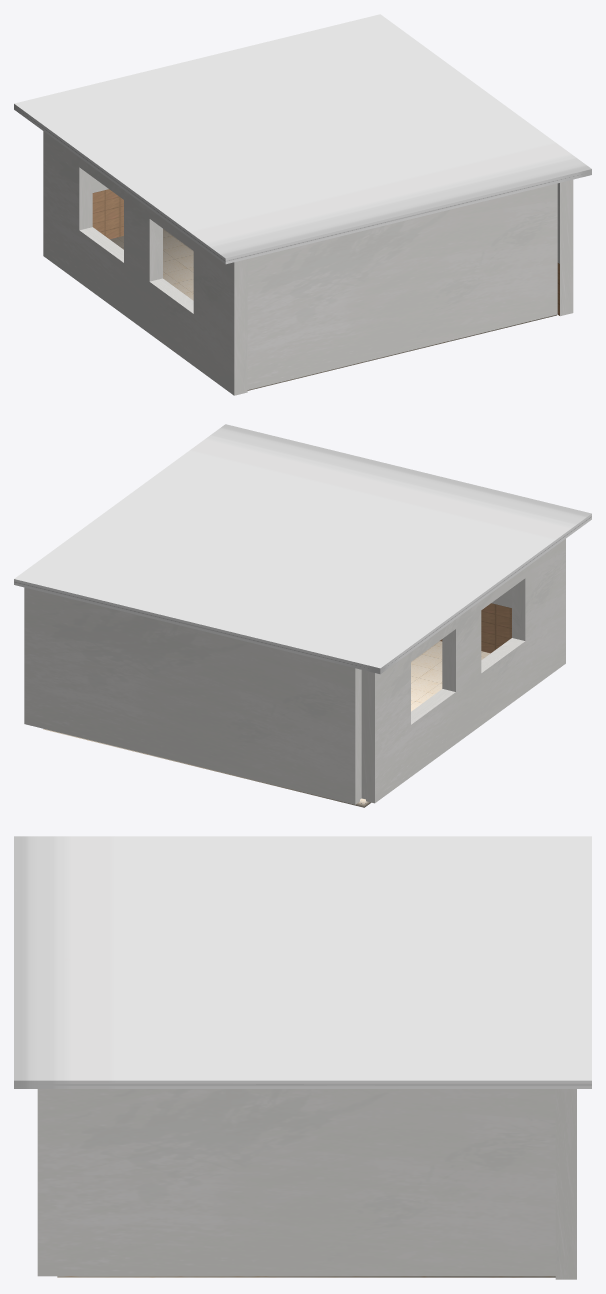
Rendered from walls.fbx.
The picture shows the model from 3 angles, top to bottom: view 1: azimuth 30°, elevation 25°; view 2: azimuth 150°, elevation 25°; view 3: azimuth 270°, elevation 25°; orthographic projection. The views are drawn at different scales.
Visible parts, largest first — view 1: techa, pared.002, pared.001, pared.004, suelo, pared; view 2: techa, pared, pared.001, suelo, pared.002; view 3: techa, pared.004, pared, suelo.
Part boxes in pixels (x1,y1,x2,y2): techa: (14, 14, 591, 264); pared.002: (247, 183, 557, 389); pared.001: (43, 131, 247, 395); pared.004: (557, 179, 573, 316); suelo: (110, 229, 556, 390); pared: (92, 177, 123, 239); techa: (14, 424, 591, 674); pared: (24, 587, 361, 804); pared.001: (361, 539, 565, 803); suelo: (43, 641, 490, 807); pared.002: (440, 588, 511, 653); techa: (14, 836, 591, 1088); pared.004: (37, 1089, 555, 1276); pared: (555, 1089, 576, 1279); suelo: (57, 1276, 555, 1277).
Bounding box in the file's own units: 747 × 299 × 747.
